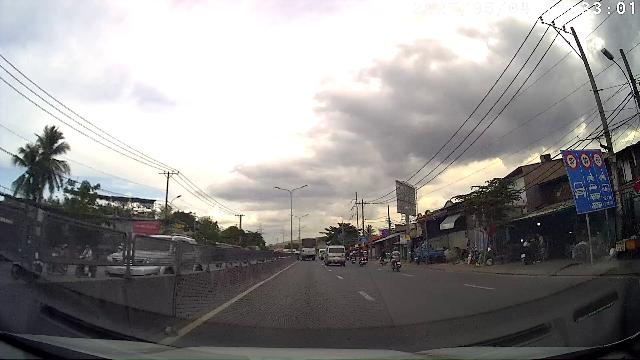127-toc-do-toi-da-60: (566, 153, 578, 170), (580, 152, 592, 168), (593, 152, 603, 167)
